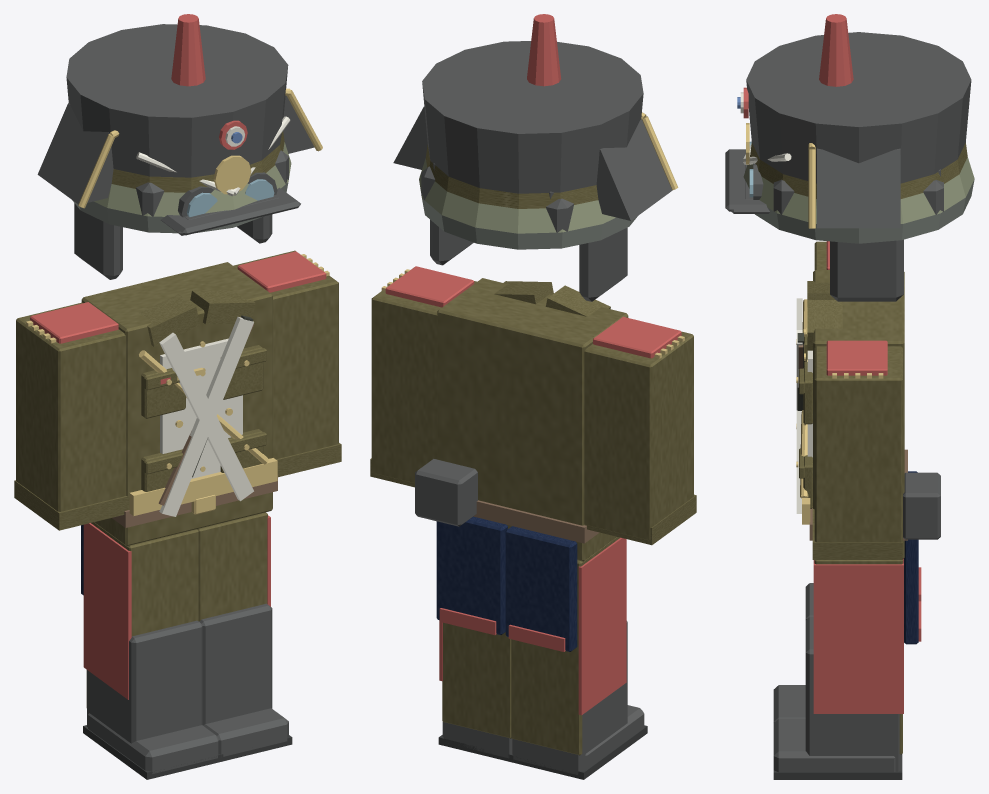
File: historical_uniforms.glb
The picture shows the model from 3 angles, left to right: view 1: azimuth 30°, elevation 25°; view 2: azimuth 150°, elevation 25°; view 3: azimuth 270°, elevation 25°; orthographic projection.
Parts seen in each view (by area): view 1: nap_fr_infantry.head.0450, ww2_su_infantry.arm_r.0002, ww2_su_infantry.body.0001, ww2_su_infantry.arm_l.0009, ww2_su_general.leg_r.0163, ww2_su_infantry.boot_r.0005, ww2_su_infantry.leg_r.0004, ww2_su_infantry.leg_l.0011, ww2_su_officer.boot_r.0034, ww2_su_infantry.boot_l.0012, nap_fr_officer.head.0502, nap_fr_infantry.body.0438 (+28 smaller); view 2: ww2_su_infantry.body.0001, nap_fr_infantry.head.0450, ww2_su_infantry.arm_r.0002, ww2_su_infantry.arm_l.0009, nap_fr_infantry.leg_r.0423, ww2_su_infantry.leg_r.0004, ww2_su_general.leg_r.0163, ww2_su_infantry.leg_l.0011, nap_fr_infantry.leg_l.0432, nap_fr_officer.head.0502, ww2_su_infantry.head.0029, nap_fr_infantry.body.0449 (+20 smaller); view 3: nap_fr_infantry.head.0450, ww2_su_infantry.arm_l.0009, ww2_su_general.leg_l.0171, nap_fr_officer.head.0502, ww2_su_tanker.head.0105, ww2_su_infantry.boot_l.0012, ww2_su_infantry.body.0001, ww2_su_infantry.boot_l.0013, ww2_de_infantry.head.0238, ww2_su_infantry.head.0029, nap_fr_infantry.body.0449, ww2_su_infantry.arm_l.0015 (+15 smaller).
Part boxes in pixels (box(x1,y1,x2,y2)): nap_fr_infantry.head.0450: box(66, 24, 288, 177); ww2_su_infantry.arm_r.0002: box(16, 302, 125, 511); ww2_su_infantry.body.0001: box(81, 262, 272, 545); ww2_su_infantry.arm_l.0009: box(233, 250, 338, 459); ww2_su_general.leg_r.0163: box(83, 523, 131, 699); ww2_su_infantry.boot_r.0005: box(87, 649, 202, 743); ww2_su_infantry.leg_r.0004: box(86, 522, 198, 707); ww2_su_infantry.leg_l.0011: box(197, 512, 267, 621); ww2_su_officer.boot_r.0034: box(87, 620, 202, 741); ww2_su_infantry.boot_l.0012: box(202, 632, 272, 724); nap_fr_officer.head.0502: box(37, 95, 314, 203); nap_fr_infantry.body.0438: box(160, 338, 242, 478); ww2_su_infantry.body.0001: box(437, 278, 628, 561); nap_fr_infantry.head.0450: box(422, 41, 643, 193); ww2_su_infantry.arm_r.0002: box(584, 331, 693, 540); ww2_su_infantry.arm_l.0009: box(371, 281, 476, 482); nap_fr_infantry.leg_r.0423: box(505, 526, 577, 651); ww2_su_infantry.leg_r.0004: box(511, 537, 619, 755); ww2_su_general.leg_r.0163: box(578, 537, 626, 715); ww2_su_infantry.leg_l.0011: box(442, 622, 511, 738); nap_fr_infantry.leg_l.0432: box(436, 516, 507, 634); nap_fr_officer.head.0502: box(393, 107, 672, 220); ww2_su_infantry.head.0029: box(419, 158, 615, 233); nap_fr_infantry.body.0449: box(415, 459, 477, 526); nap_fr_infantry.head.0450: box(746, 32, 971, 183); ww2_su_infantry.arm_l.0009: box(814, 346, 902, 554); ww2_su_general.leg_l.0171: box(813, 563, 903, 713); nap_fr_officer.head.0502: box(817, 148, 900, 228); ww2_su_tanker.head.0105: box(830, 239, 903, 301); ww2_su_infantry.boot_l.0012: box(805, 677, 902, 771); ww2_su_infantry.body.0001: box(813, 270, 904, 558); ww2_su_infantry.boot_l.0013: box(773, 719, 895, 772); ww2_de_infantry.head.0238: box(755, 179, 974, 243); ww2_su_infantry.head.0029: box(743, 157, 974, 223); nap_fr_infantry.body.0449: box(903, 472, 940, 539); ww2_su_infantry.arm_l.0015: box(826, 340, 887, 375).
Size of the model in its own units: 1.02 by 2.49 by 0.775.
28 materials, 16 textured.
